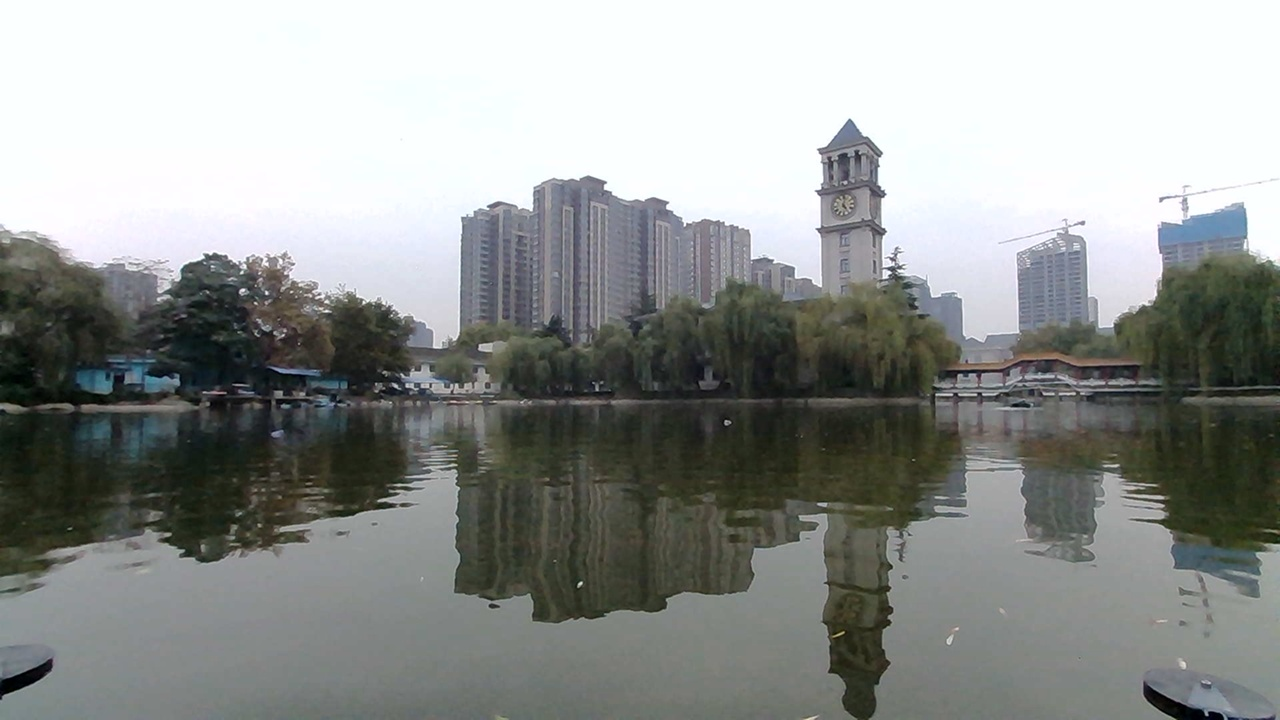bottle: (262, 416, 304, 446), (711, 413, 748, 436)
